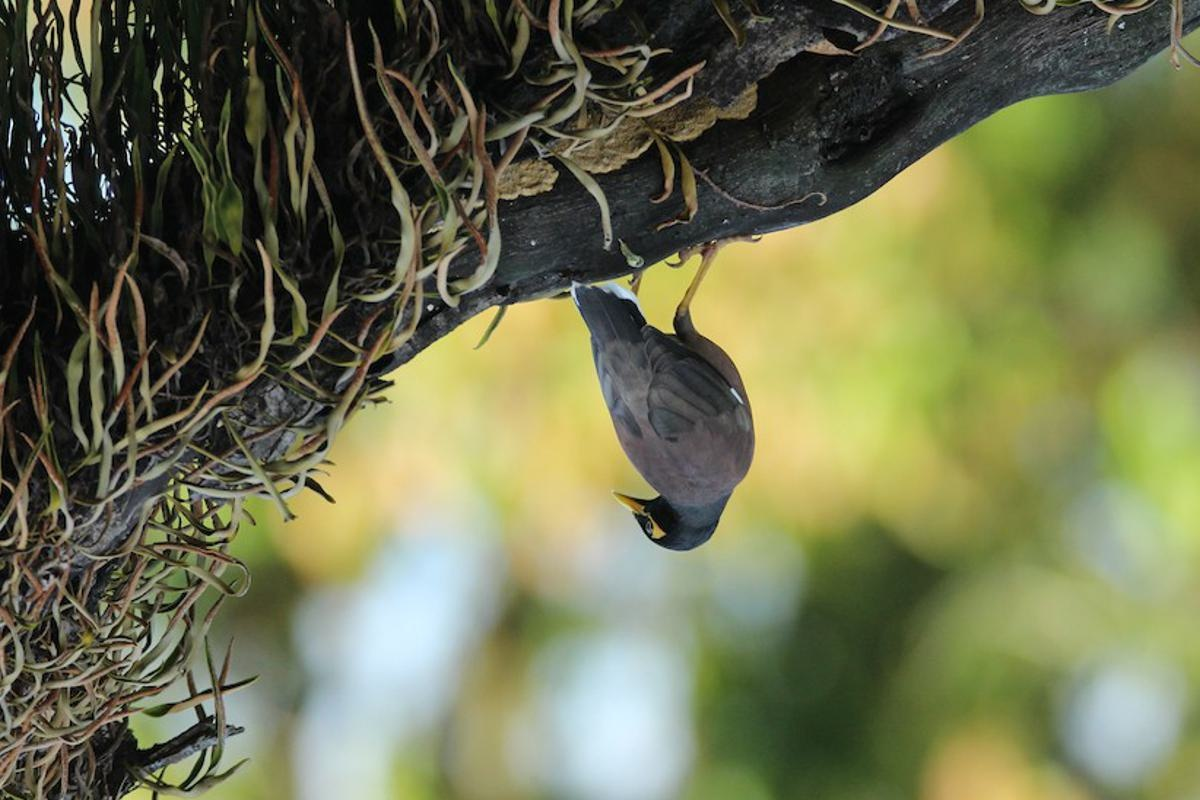myna: (526, 198, 779, 560)
